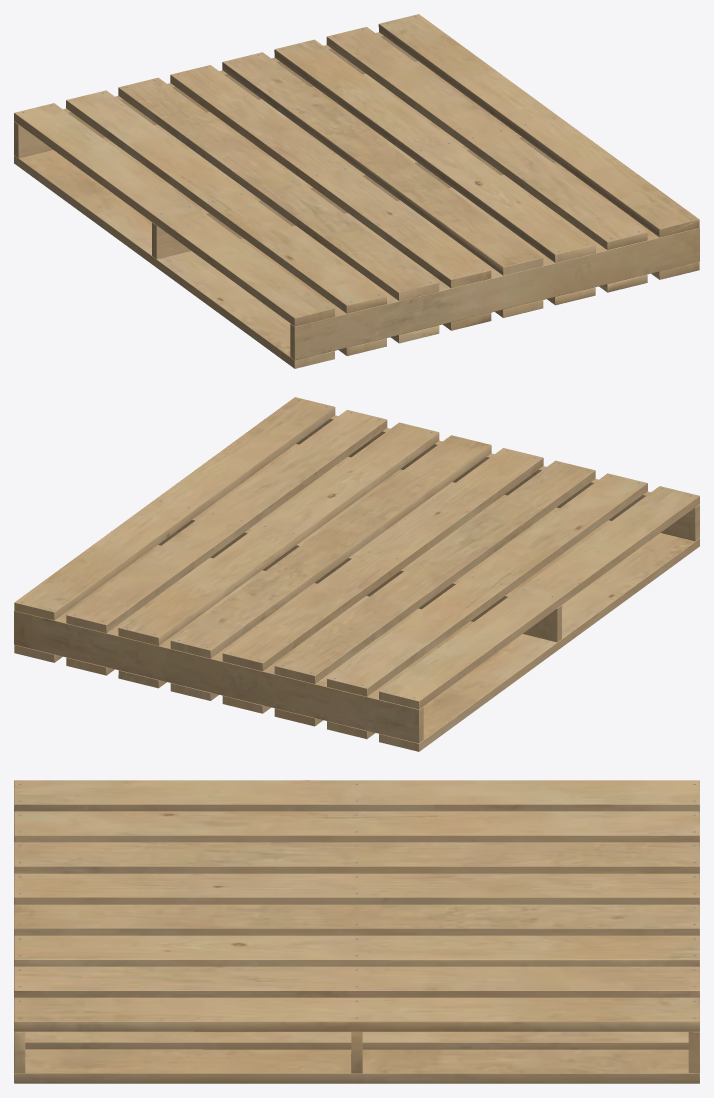
File: blockpallet_a01.glb
The picture shows the model from 3 angles, top to bottom: view 1: azimuth 30°, elevation 25°; view 2: azimuth 150°, elevation 25°; view 3: azimuth 270°, elevation 25°; orthographic projection. The views are drawn at different scales.
Parts seen in each view (by area): view 1: root; view 2: root; view 3: root.
Boxes of the visible parts, box(x1,y1,x2,y2) form: root: box(14, 14, 699, 368); root: box(14, 397, 699, 751); root: box(14, 780, 699, 1083).
Bounding box in the file's own units: 0.9999 × 0.1203 × 1.2.
2 materials, 2 textured.
